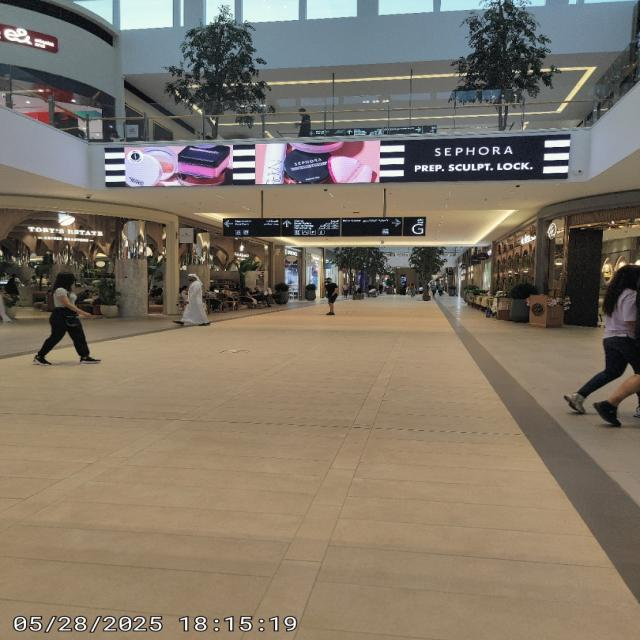rectangle-wide-board: (104, 130, 572, 185)
